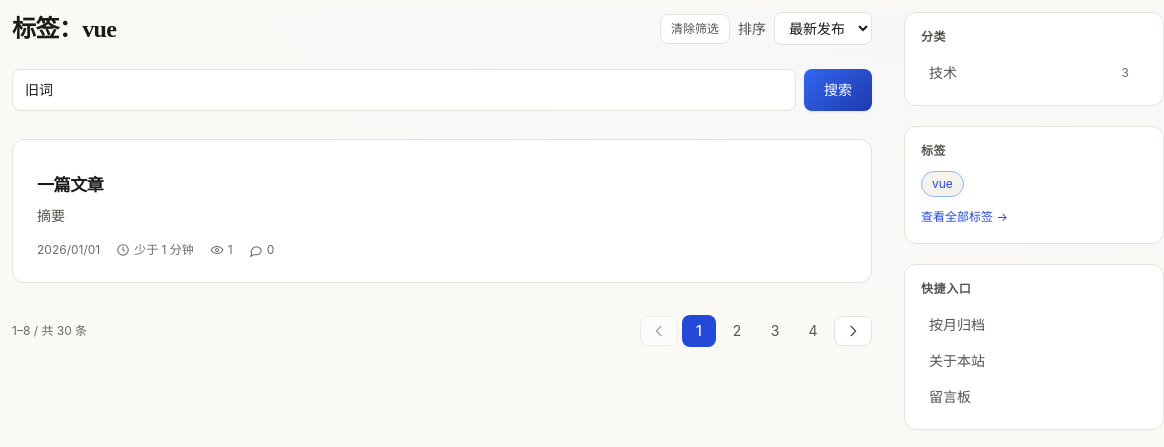
Test: HomeView · URL 是唯一状态源 › 「清除筛选」把 tag / category / keyword / page 一起清掉
Click the button "清除筛选" at (695, 28), box [660, 14, 730, 44]
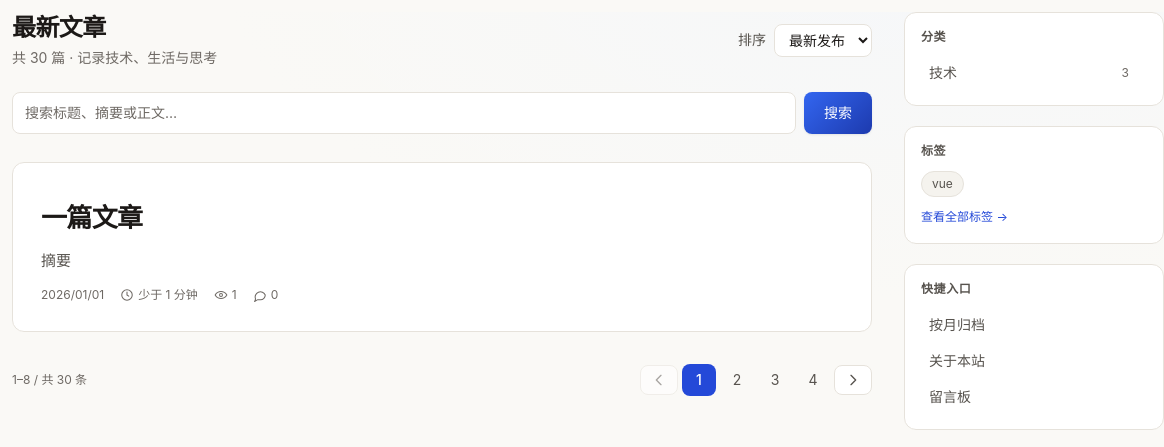
Check: the heading "最新文章" is shown, box [12, 15, 106, 41]
